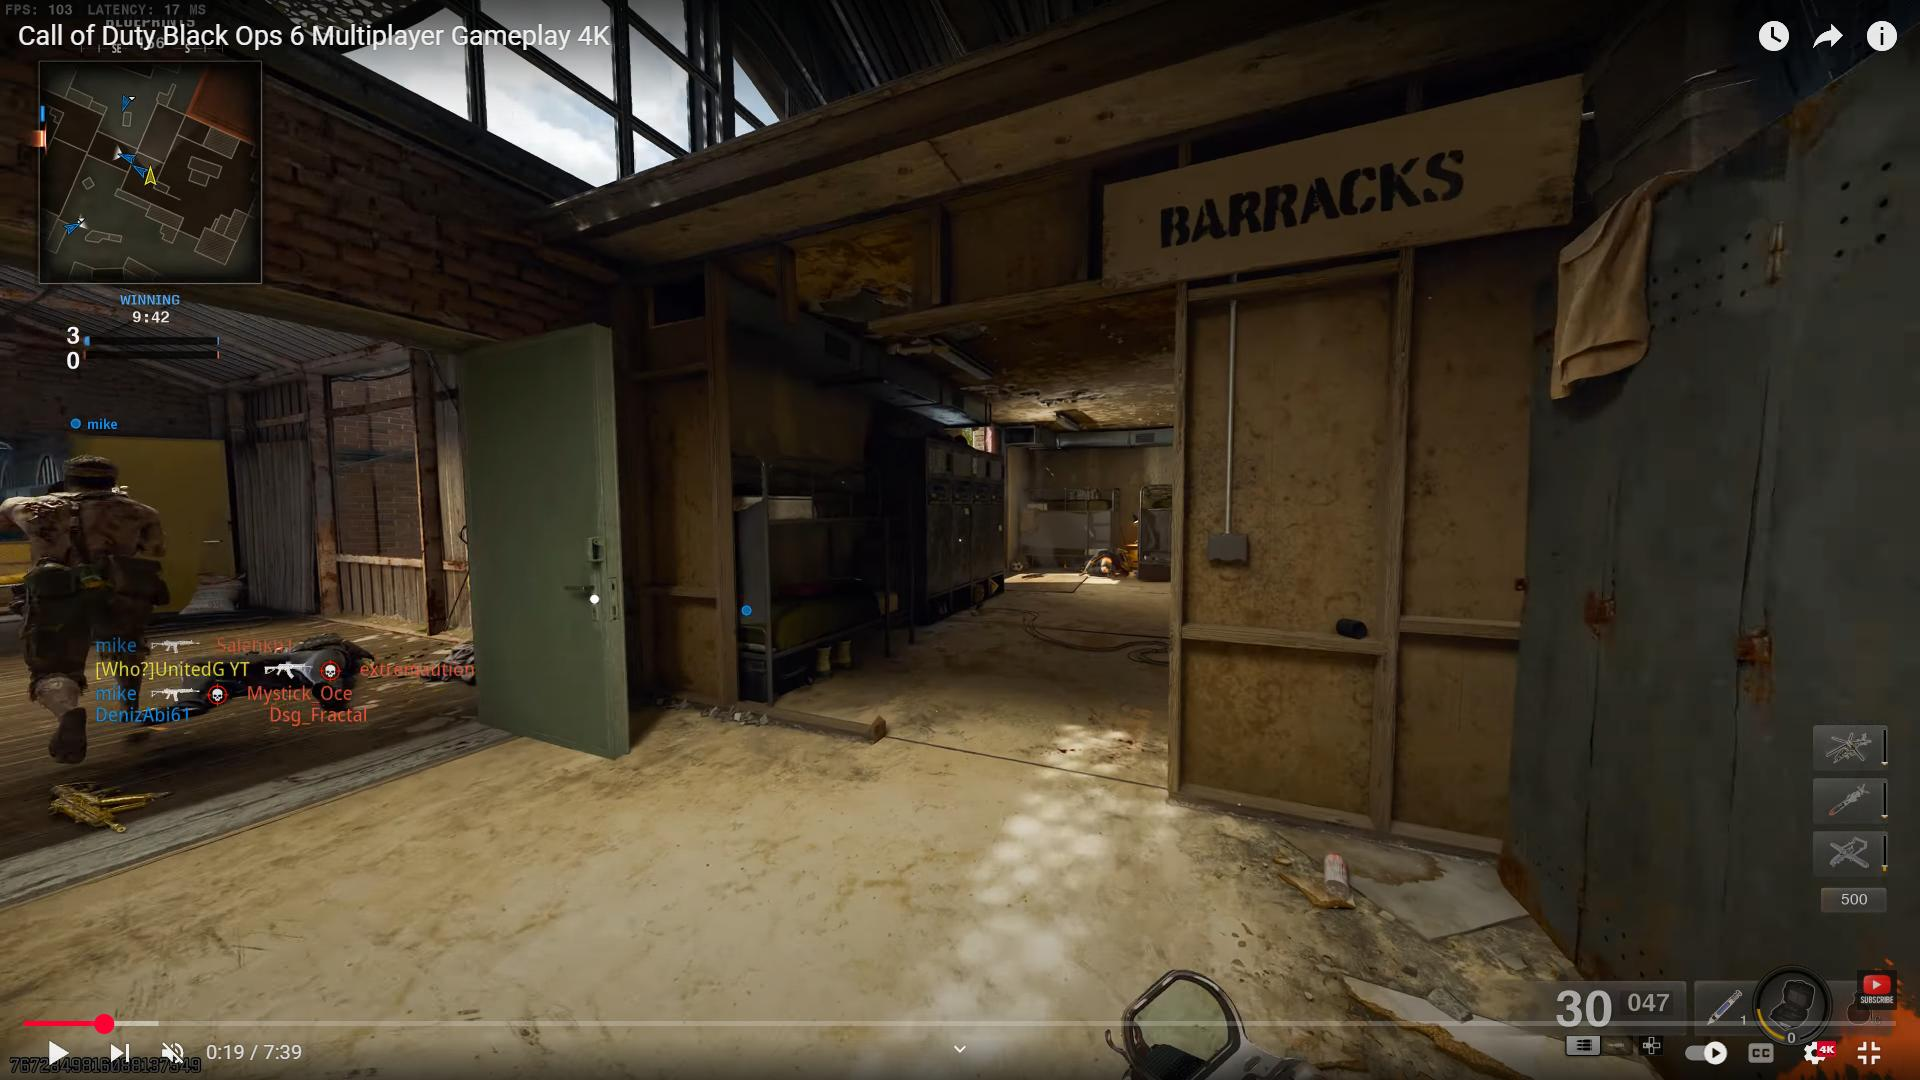Enemy: (1, 431, 186, 618)
